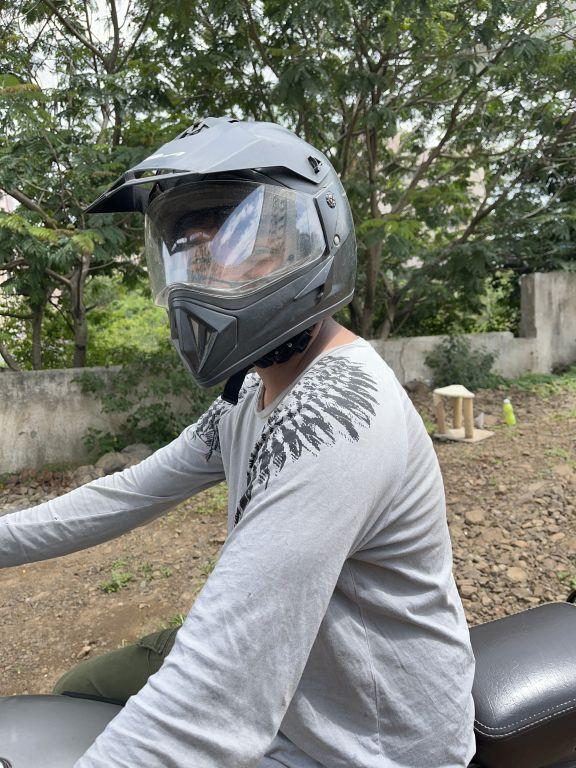helmet: (77, 104, 376, 407)
